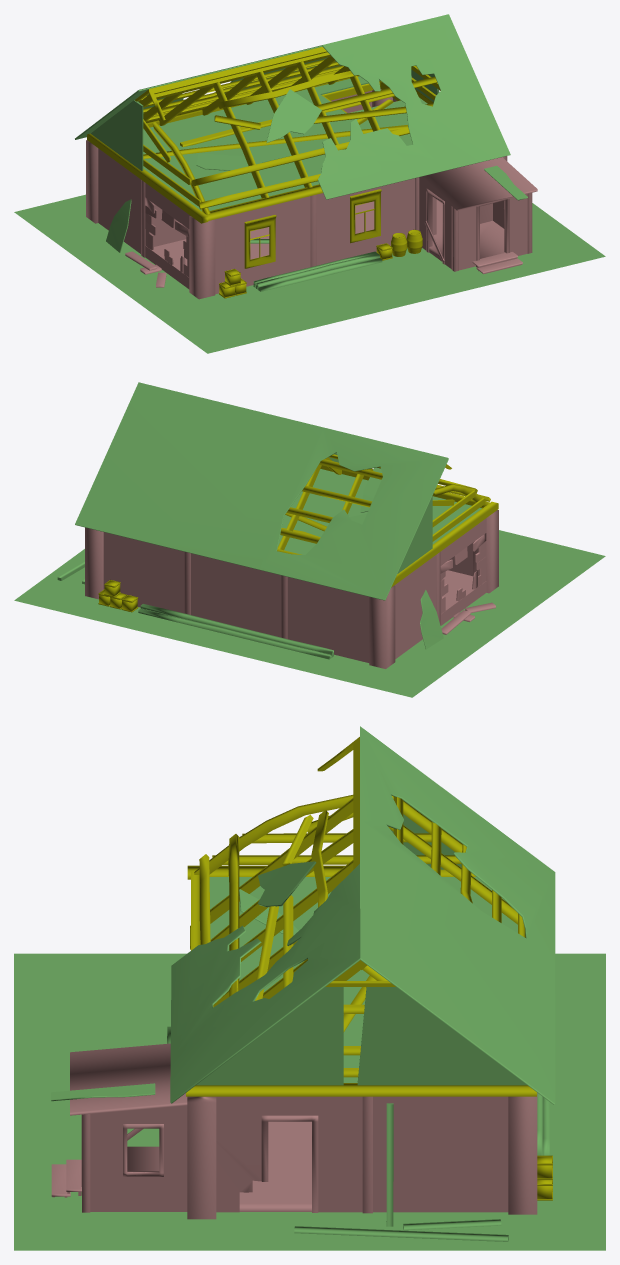
3 views of the same model, one above another, from view 1: azimuth 30°, elevation 25°; view 2: azimuth 150°, elevation 25°; view 3: azimuth 270°, elevation 25° (orthographic). The views are drawn at different scales.
Parts seen in each view (by area): view 1: e7_low, e8_low, e4_low, a0_low, c5_low, a1_low, b29_low, b30_low, c6_low, e3_low, a6_low, b11_low (+24 smaller); view 2: e5_low, e7_low, a3_low, a1_low, e4_low, b9_low, c5_low, b6_low, c4_low, d2_low, d3_low, b11_low (+7 smaller); view 3: e7_low, e5_low, a4_low, e8_low, e2_low, e1_low, a5_low, c5_low, b29_low, b30_low, c6_low, e4_low (+16 smaller).
Boxes of the visible parts, box(x1,y1,x2,y2) form: e7_low: box(14, 194, 605, 353); e8_low: box(318, 14, 510, 199); e4_low: box(143, 76, 427, 211); a0_low: box(215, 178, 415, 294); c5_low: box(139, 59, 437, 209); a1_low: box(98, 148, 190, 289); b29_low: box(420, 157, 537, 210); b30_low: box(154, 200, 505, 268); c6_low: box(149, 61, 380, 198); e3_low: box(91, 100, 143, 170); a6_low: box(459, 194, 527, 270); b11_low: box(189, 216, 215, 299); e5_low: box(75, 382, 448, 600); e7_low: box(14, 530, 605, 697); a3_low: box(103, 532, 369, 662); a1_low: box(394, 518, 486, 658); e4_low: box(278, 469, 481, 554); b9_low: box(369, 585, 395, 668); c5_low: box(277, 454, 490, 554); b6_low: box(85, 527, 103, 599); c4_low: box(391, 501, 498, 587); d2_low: box(140, 604, 333, 654); d3_low: box(138, 608, 331, 659); b11_low: box(473, 510, 498, 593); e7_low: box(14, 953, 605, 1250); e5_low: box(360, 726, 555, 1104); a4_low: box(216, 1096, 508, 1212); e8_low: box(170, 864, 360, 1103); e2_low: box(357, 987, 526, 1085); e1_low: box(196, 987, 343, 1085); a5_low: box(90, 1105, 187, 1211); c5_low: box(199, 796, 525, 1000); b29_low: box(70, 1043, 187, 1115); b30_low: box(127, 1121, 311, 1211); c6_low: box(210, 737, 360, 1007); e4_low: box(209, 877, 517, 1082).
Size of the model in its own units: 1476 by 609 by 1243.
